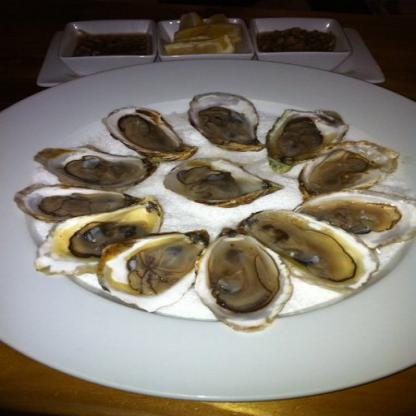oyster: (240, 206, 376, 298), (194, 230, 295, 331), (38, 196, 168, 274), (101, 228, 209, 309), (297, 191, 415, 249), (163, 156, 279, 206), (298, 139, 398, 192), (103, 103, 196, 159), (190, 89, 266, 153), (264, 110, 349, 165), (19, 180, 135, 218), (49, 145, 148, 188)
